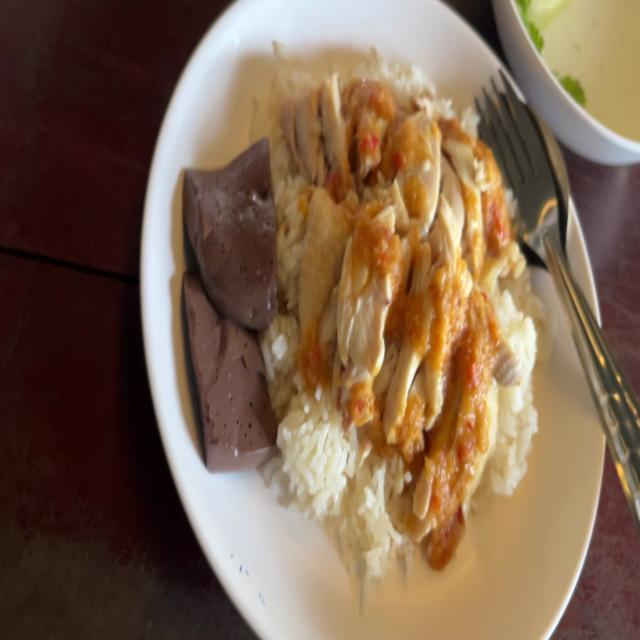chicken_rice: (292, 99, 502, 453)
noodle: (179, 260, 277, 474), (175, 130, 277, 334)
